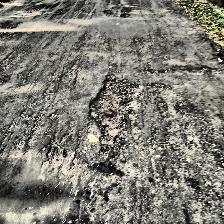pothole: (87, 76, 141, 142), (103, 9, 113, 17), (120, 8, 132, 12), (120, 14, 130, 18)
